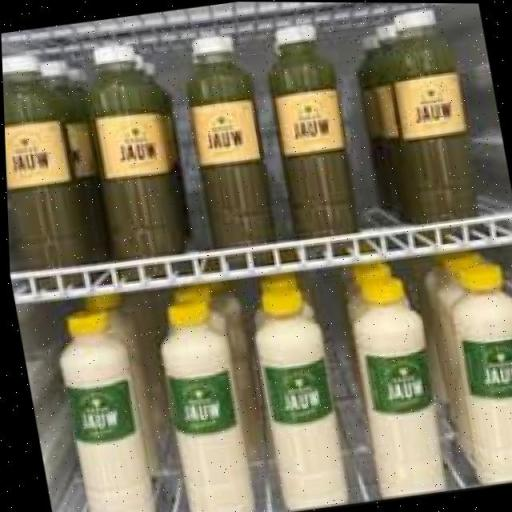plastic: (357, 2, 493, 229), (332, 271, 465, 503), (64, 31, 192, 271), (176, 23, 296, 271), (29, 302, 166, 512), (252, 2, 370, 240), (247, 289, 356, 512), (147, 305, 264, 512), (2, 40, 92, 282), (439, 258, 512, 488)
